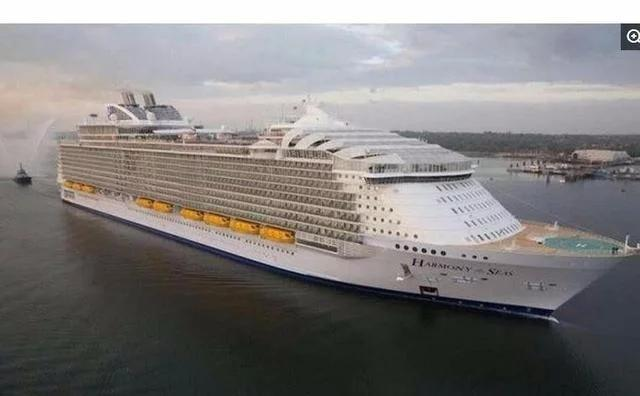otherboat: (10, 160, 32, 185)
youlun: (54, 86, 632, 318)
